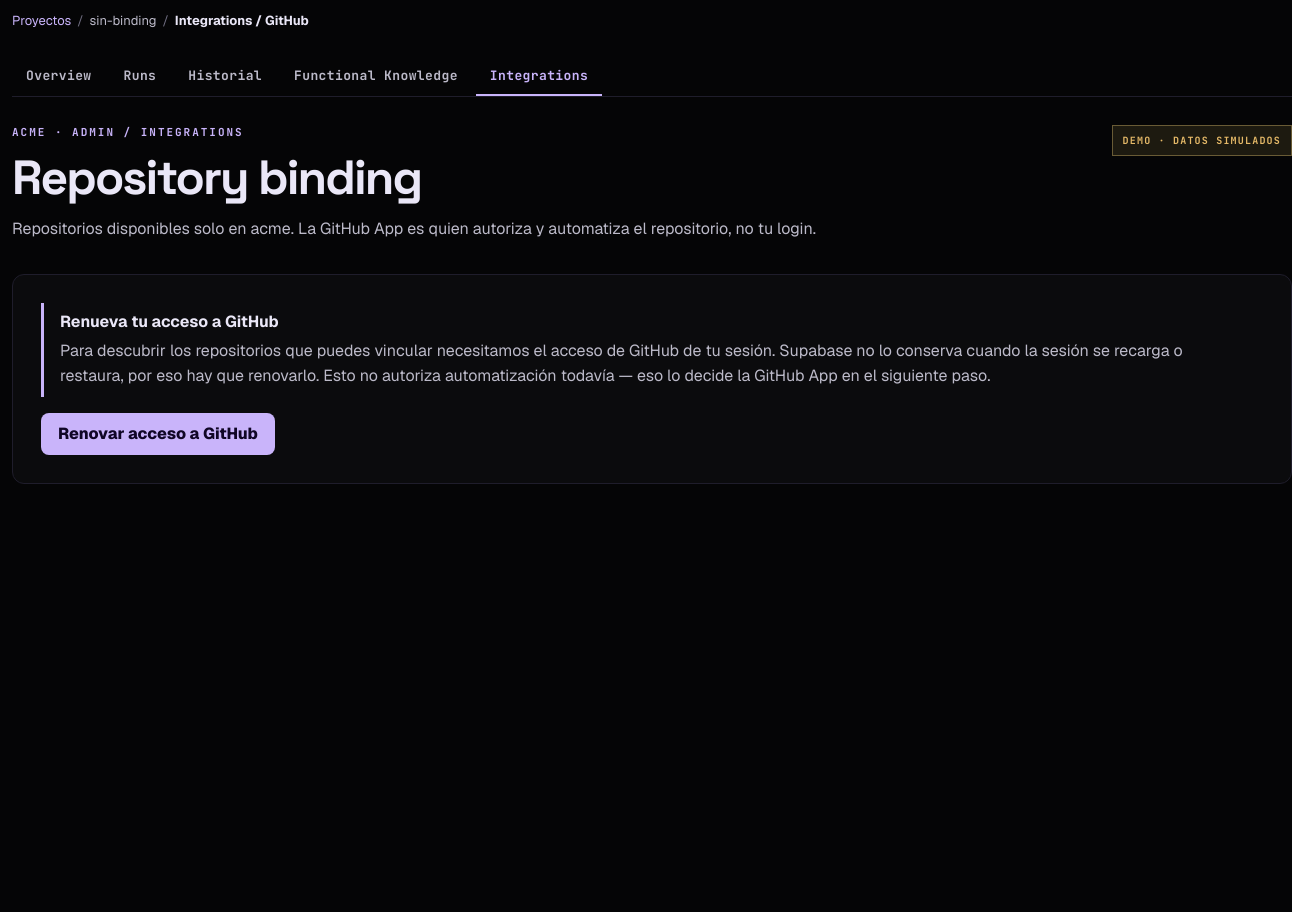
it: HU62: sin acceso GitHub en la sesión, «Renovar acceso a GitHub» lo restablece y habilita el descubrimiento (sin «Conectar GitHub»)
Expected: the text "Renueva tu acceso a GitHub" is shown, 60,311 -> 279,332
Expected: the field labelled "Buscar repositorio" is not shown
Click the button "Renovar acceso a GitHub": {"x": 158, "y": 434} 41,413 -> 275,455
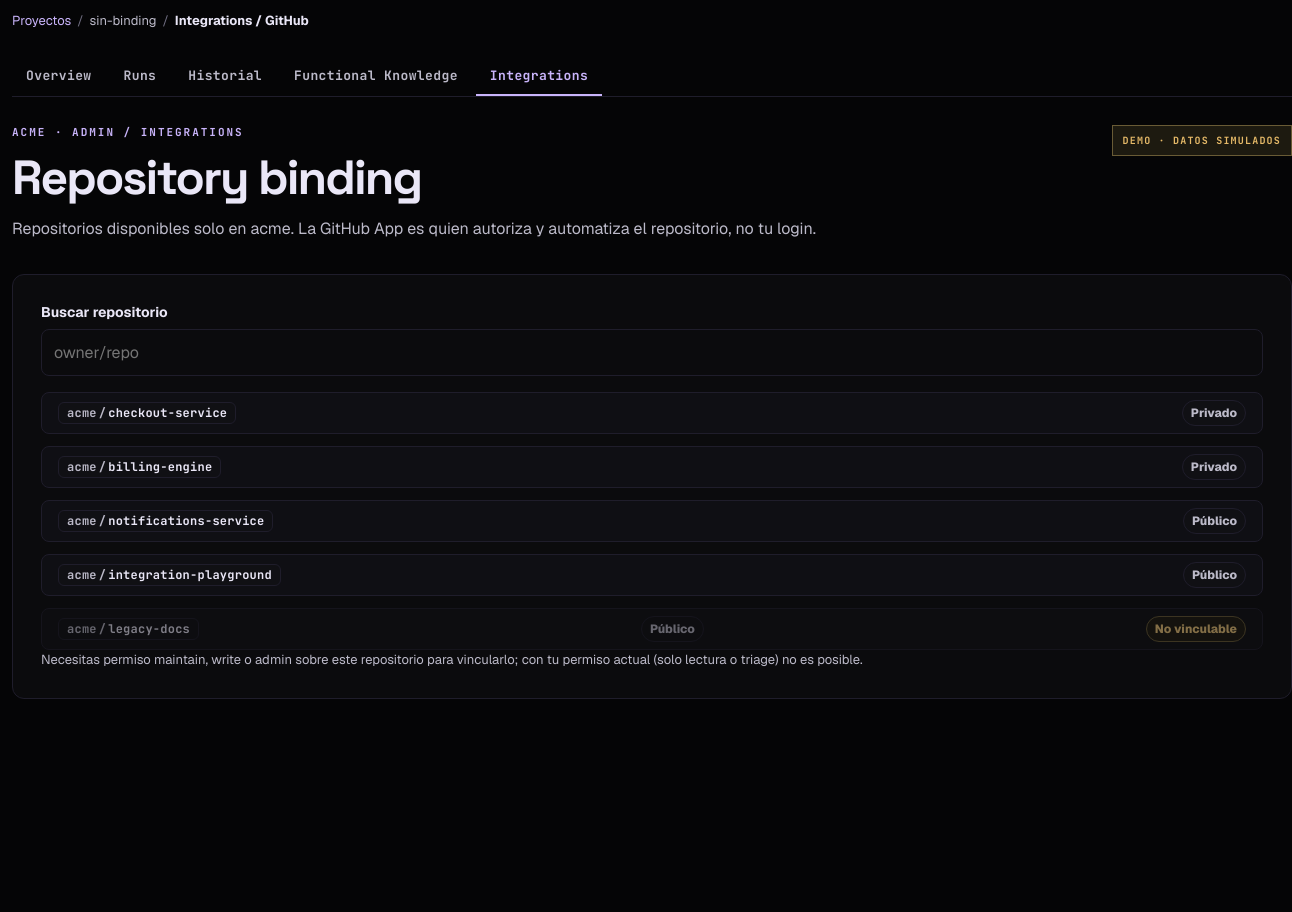
Expected: the field labelled "Buscar repositorio" is shown, 41,329 -> 1263,376
